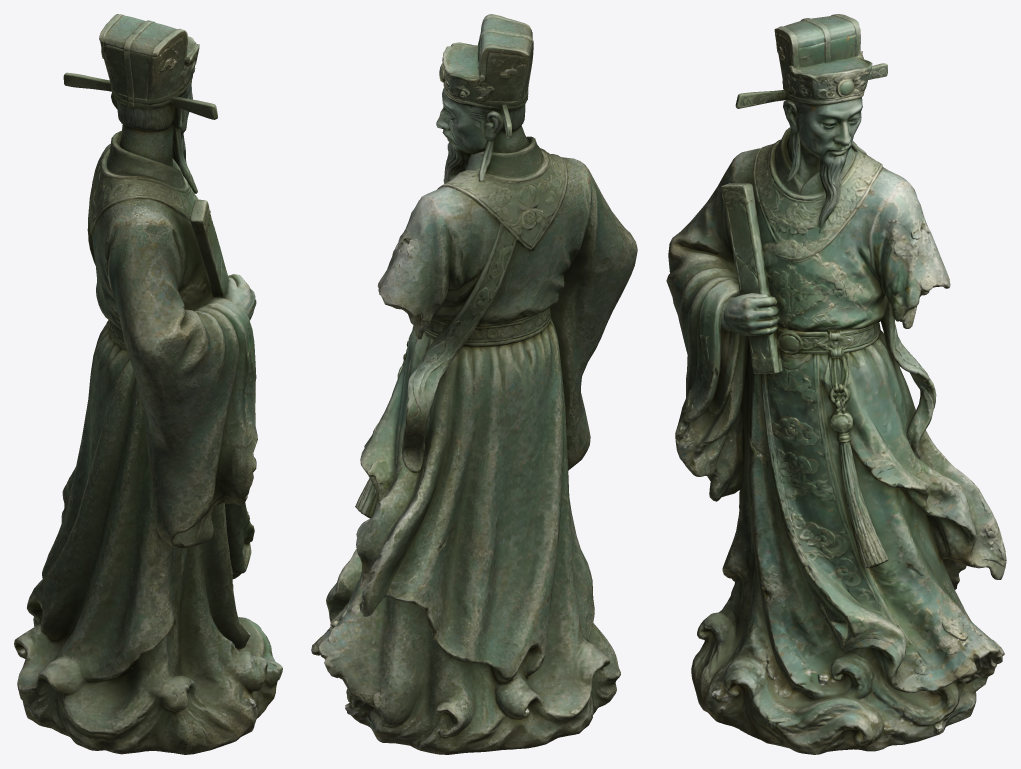
3 views of the same model, side by side, from view 1: azimuth 30°, elevation 25°; view 2: azimuth 150°, elevation 25°; view 3: azimuth 270°, elevation 25° (orthographic). The views are drawn at different scales.
Parts seen in each view (by area): view 1: tripo_node_9cdd165b-64ef-4472-91fb-18578d9674e1; view 2: tripo_node_9cdd165b-64ef-4472-91fb-18578d9674e1; view 3: tripo_node_9cdd165b-64ef-4472-91fb-18578d9674e1.
Boxes of the visible parts, bbox=[...] form: tripo_node_9cdd165b-64ef-4472-91fb-18578d9674e1: bbox=[14, 14, 282, 754]; tripo_node_9cdd165b-64ef-4472-91fb-18578d9674e1: bbox=[311, 14, 637, 754]; tripo_node_9cdd165b-64ef-4472-91fb-18578d9674e1: bbox=[666, 14, 1006, 754].
Size of the model in its own units: 0.3657 by 0.9777 by 0.4486.
Materials: 1 (1 with a texture image).
